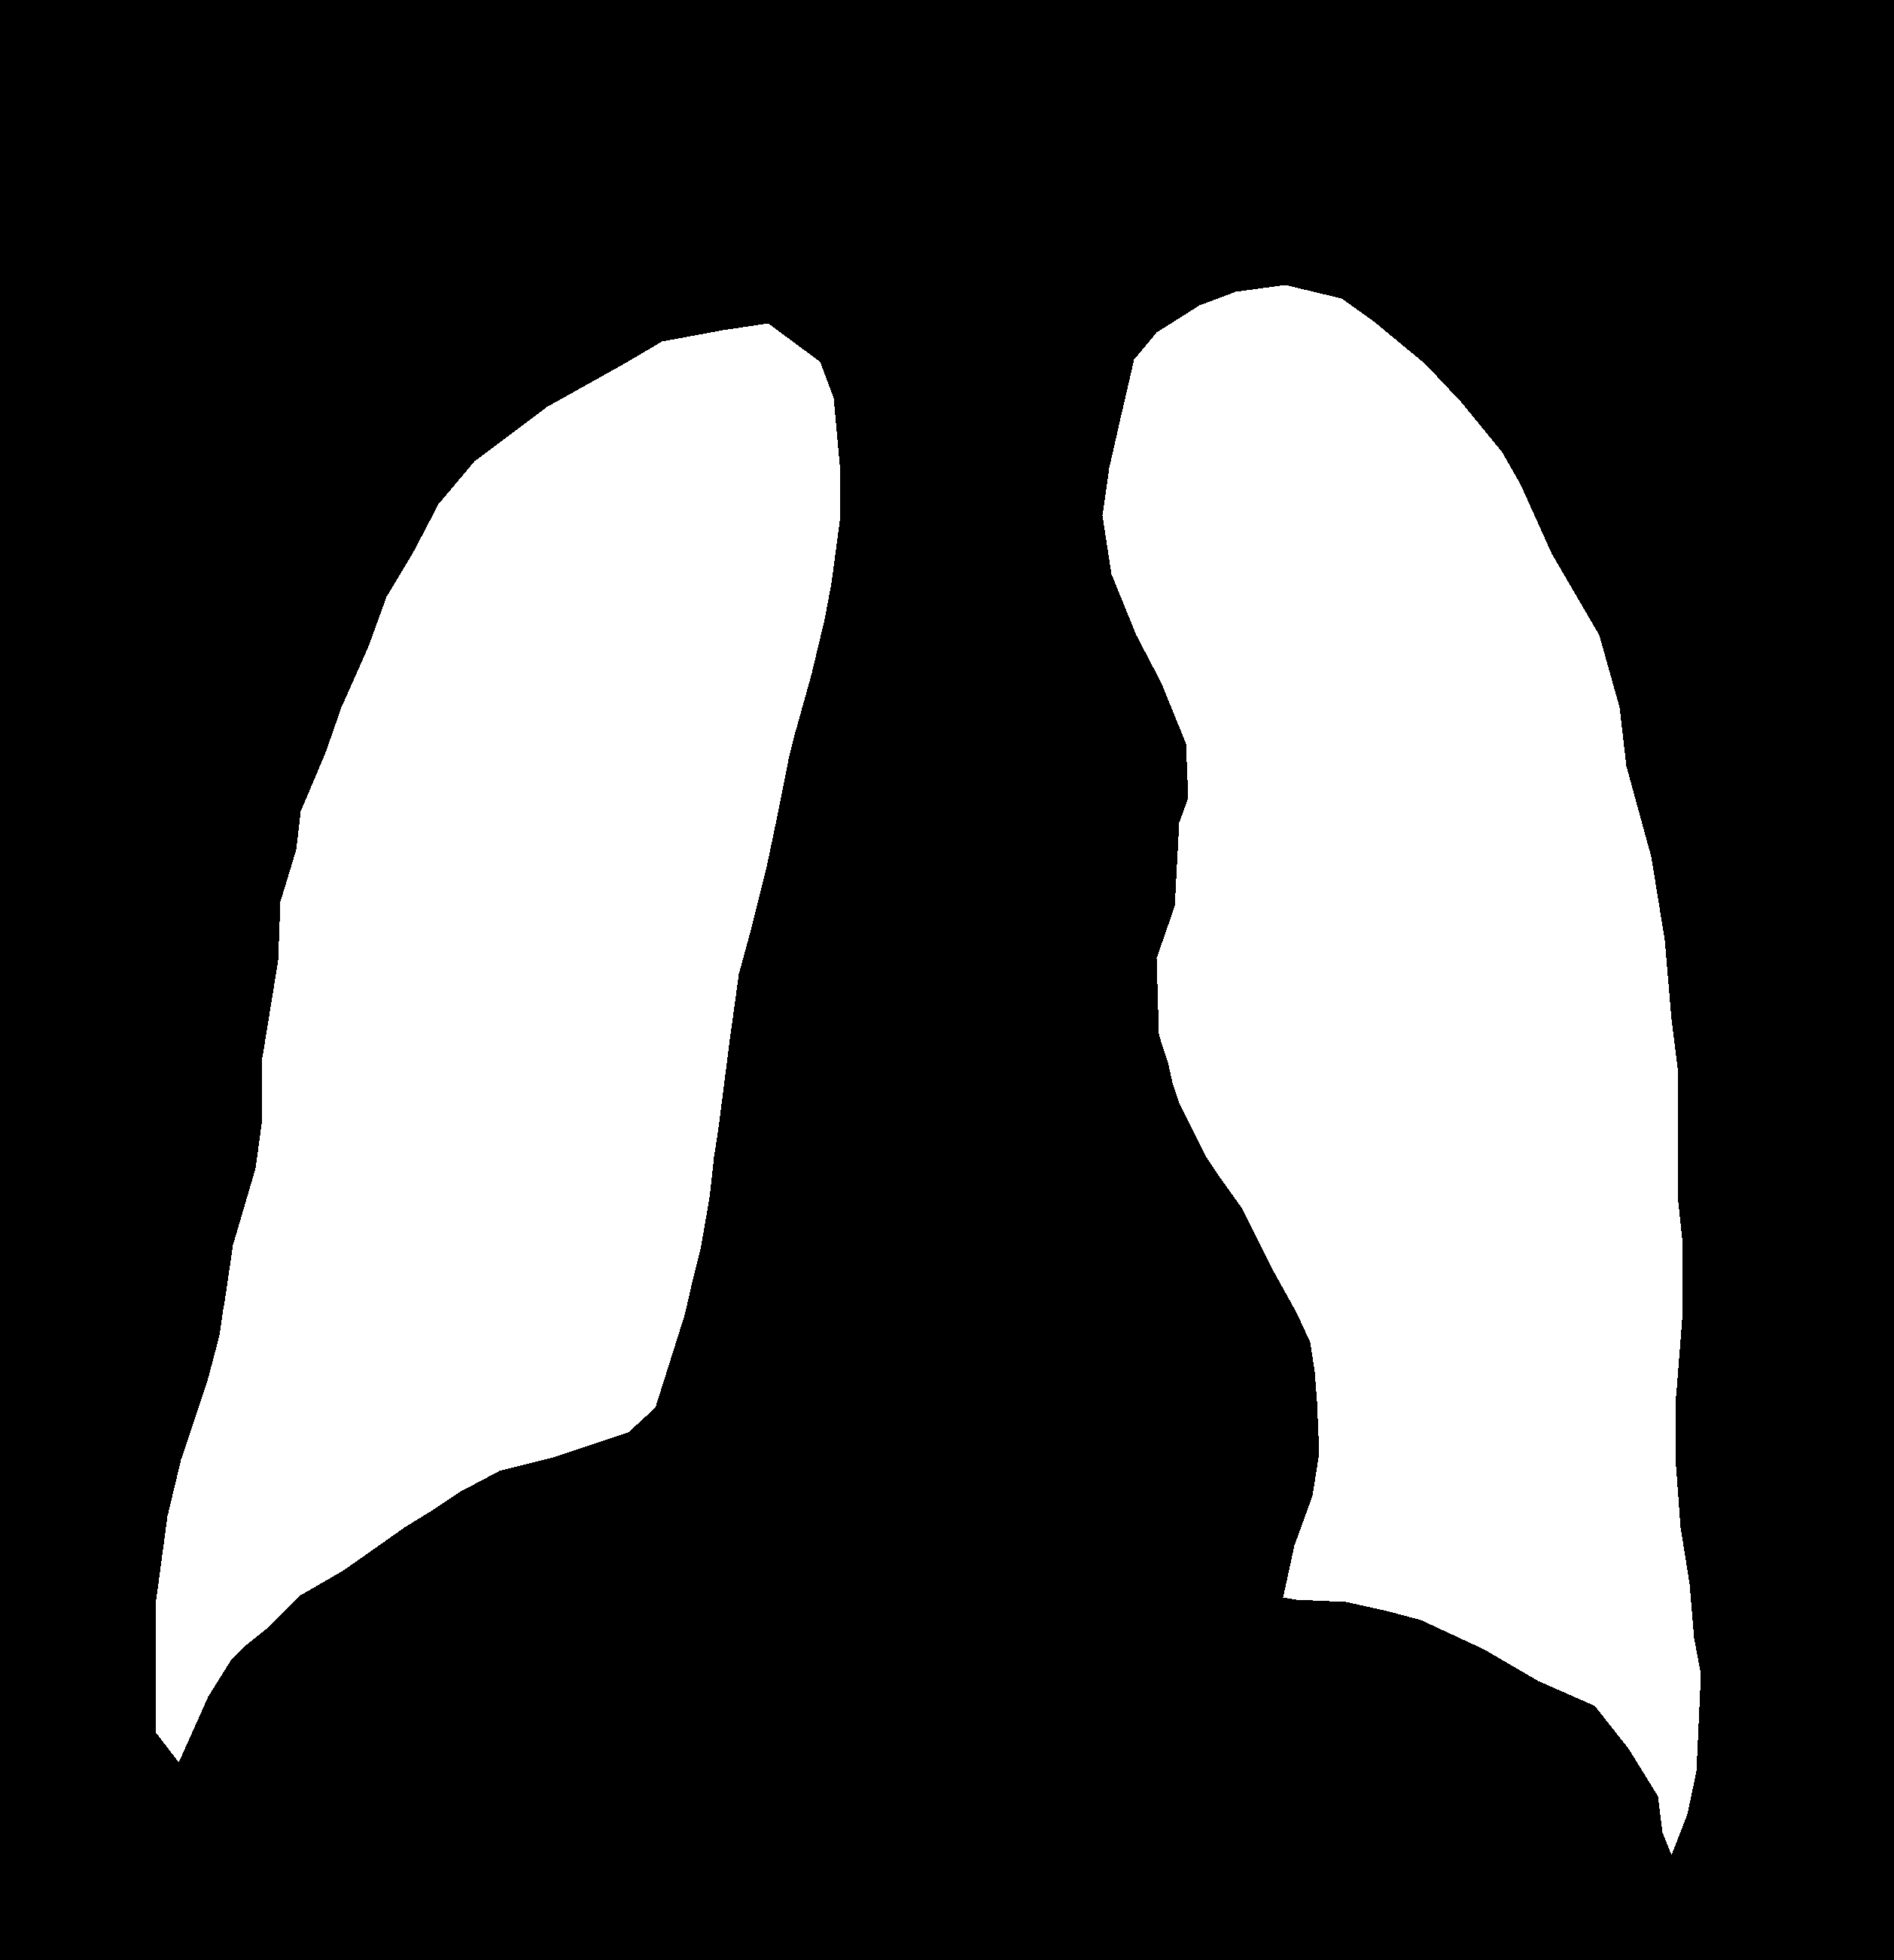heart: (696, 1041, 1326, 1592)
left_lung: (154, 324, 839, 1769)
right_lung: (1102, 285, 1710, 1857)
